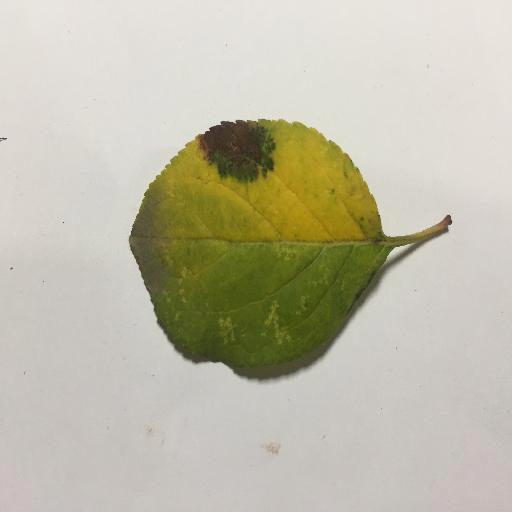Brown_Spot: (195, 121, 270, 177)
